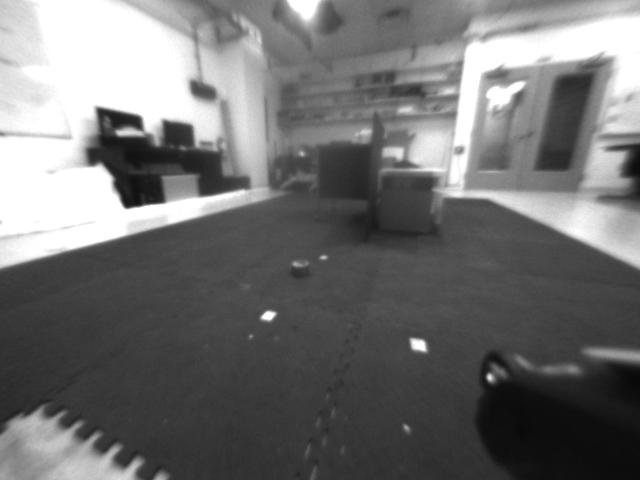dogtoy: (281, 256, 319, 281)
